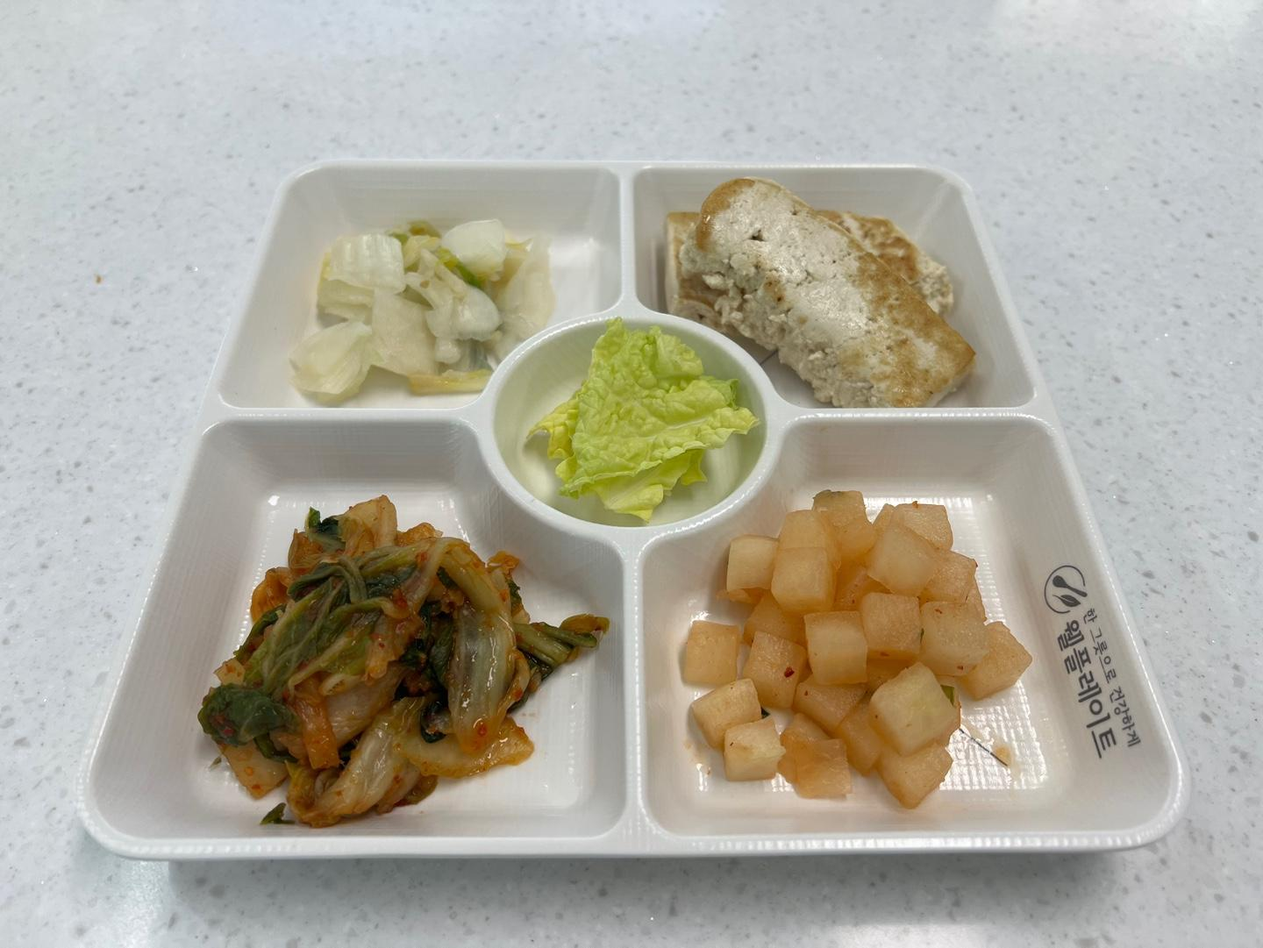food: (199, 499, 610, 827), (678, 484, 1063, 801), (211, 507, 566, 813), (681, 492, 1023, 809), (667, 178, 977, 410), (298, 191, 551, 402), (289, 218, 554, 409), (699, 181, 991, 354), (525, 321, 764, 520), (515, 319, 754, 510)
